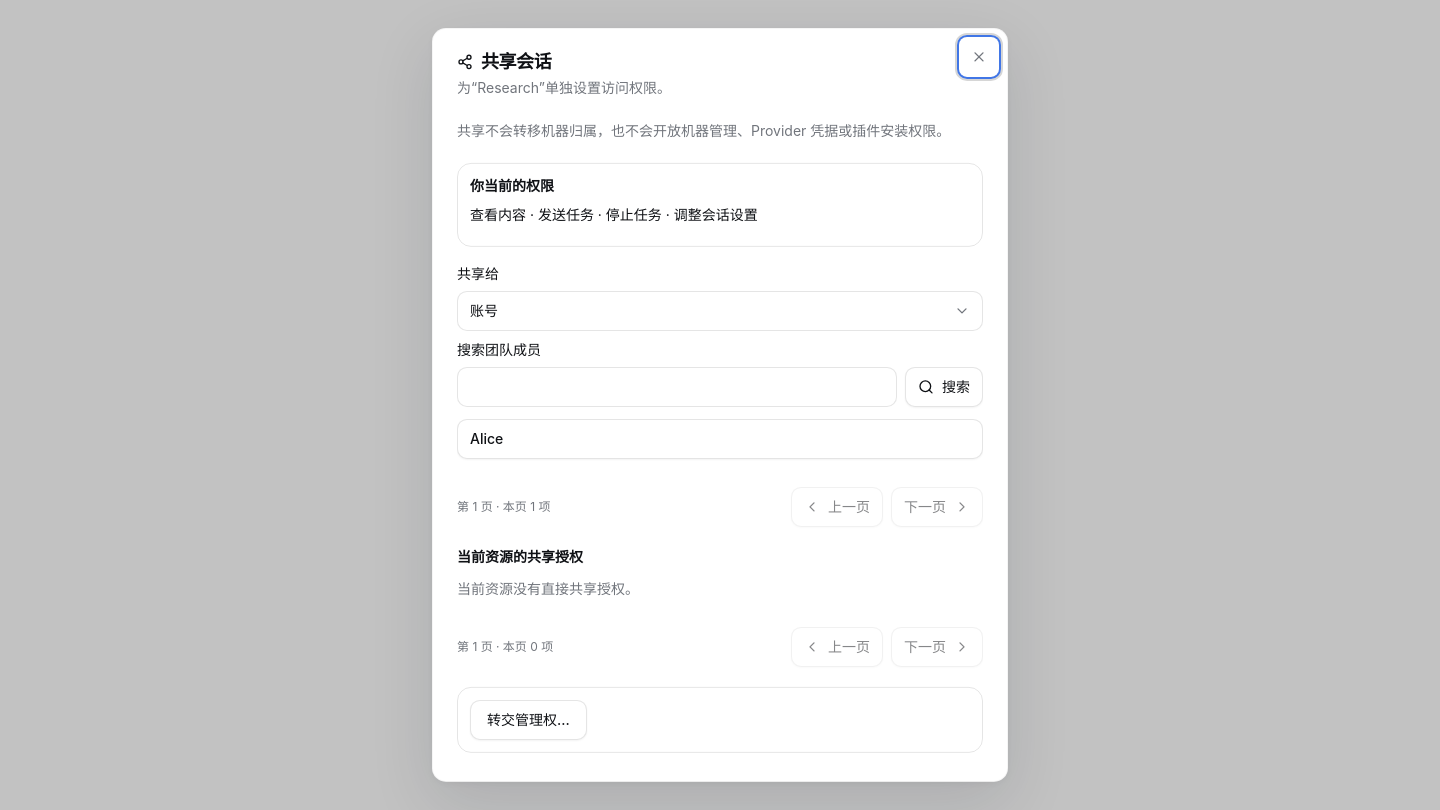
it: Resource sharing › saves explicitly selected user actions and revokes through the typed subject route
The width and height of the screenshot is (1440, 810).
Click the button "Alice" at (487, 439), box [457, 419, 983, 459]
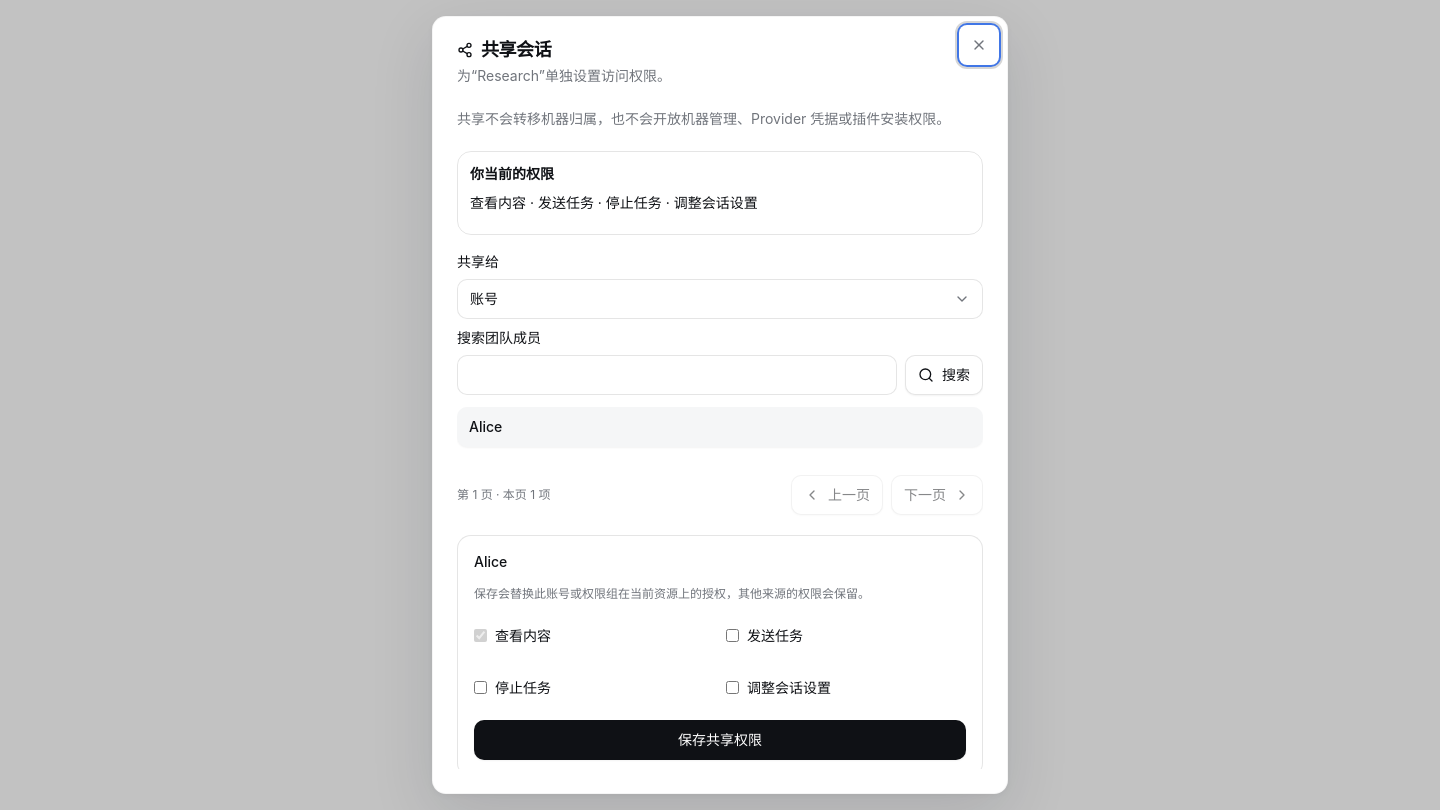
Click the checkbox labelled "发送任务" at (732, 636), box [726, 629, 739, 642]
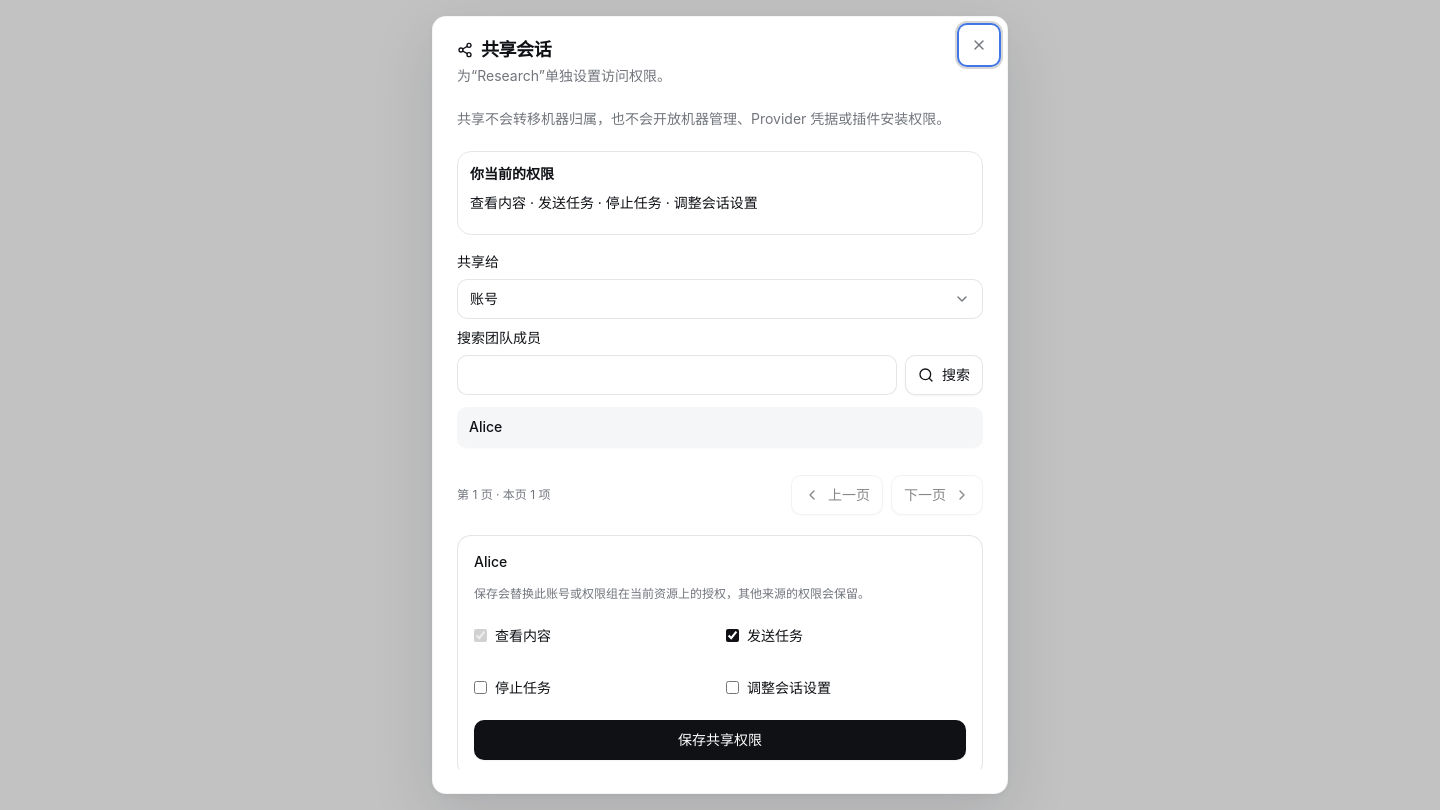
Click the button "保存共享权限" at (720, 740), box [474, 720, 966, 760]
(page scrolled)
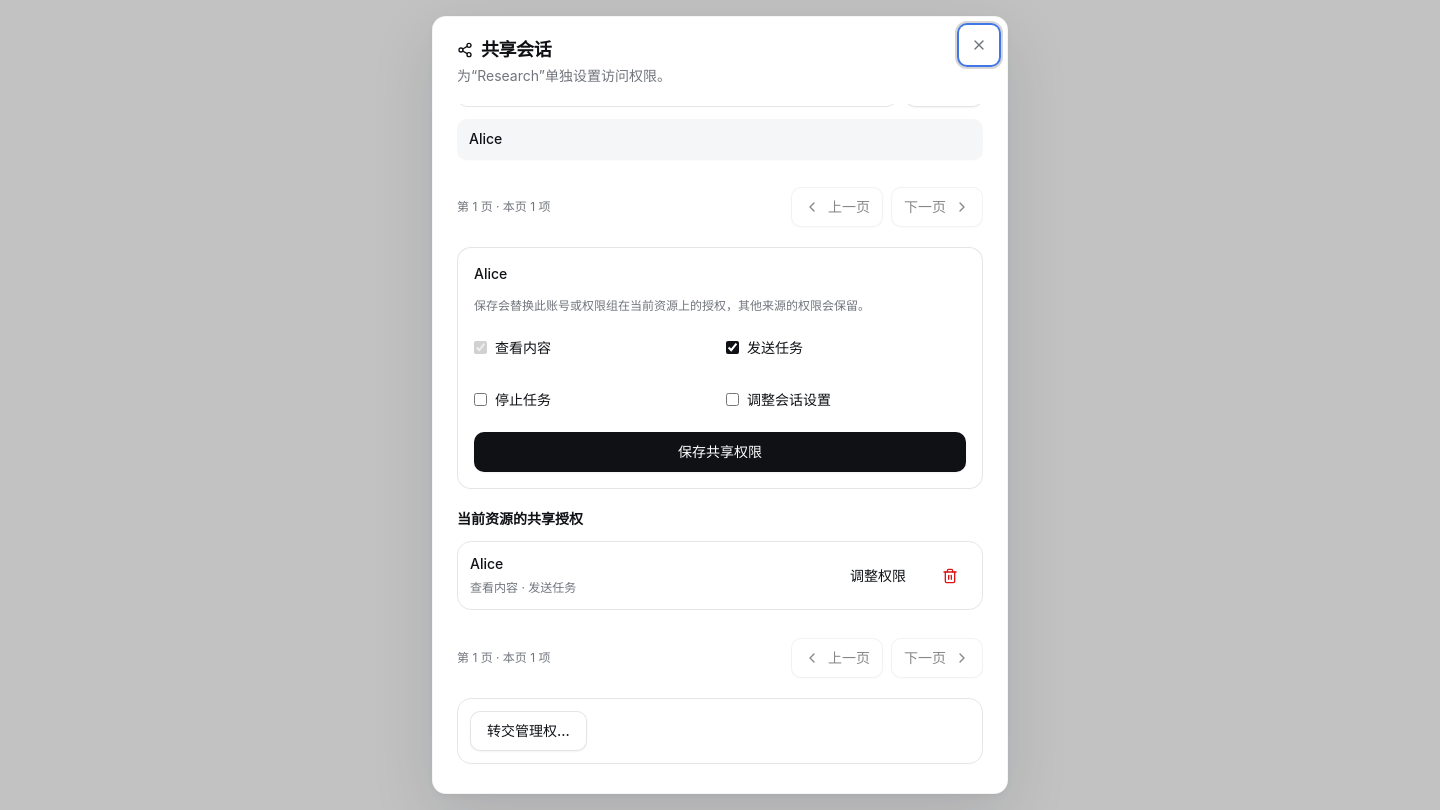
Click the button named "移除“Alice”的共享权限" at (950, 576), box [930, 556, 970, 596]
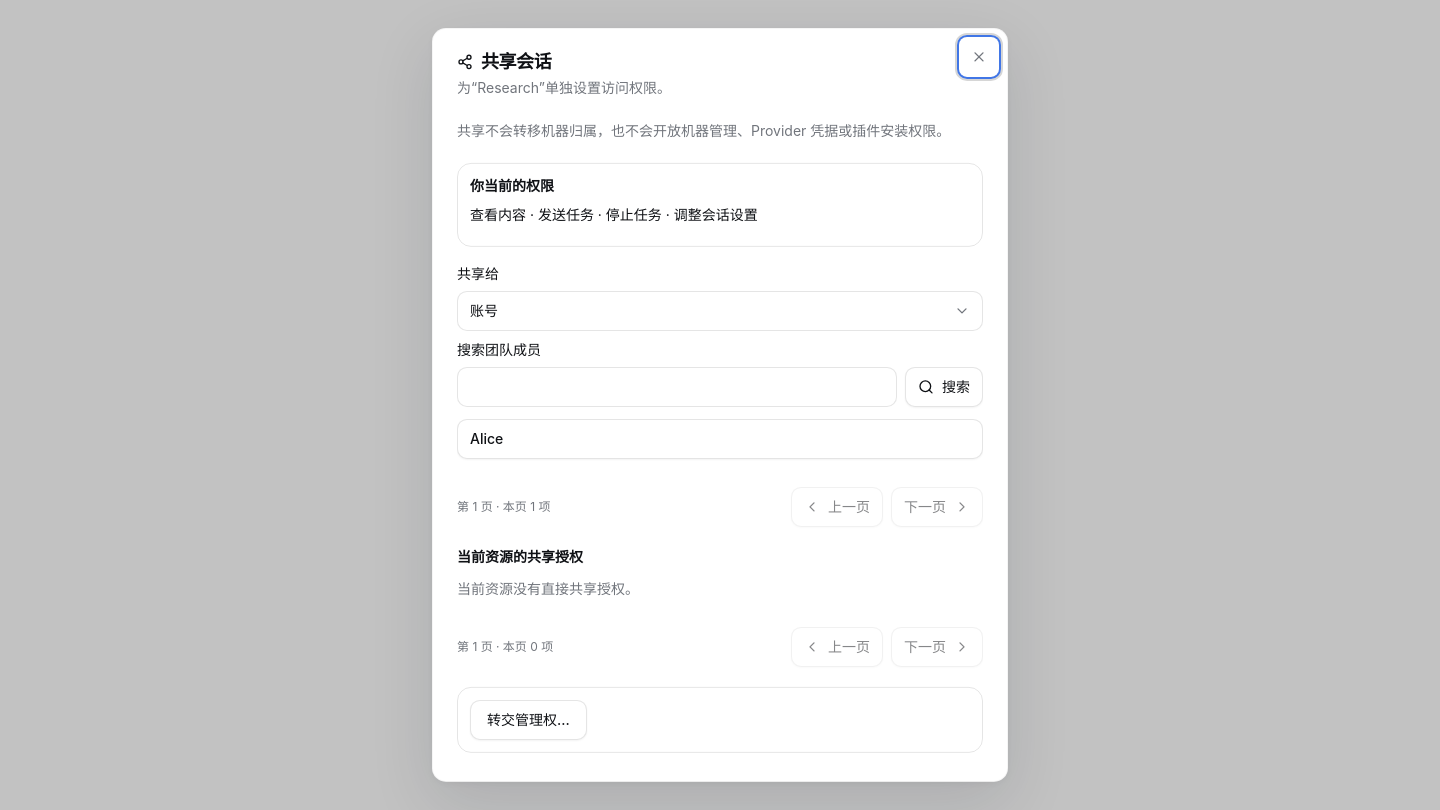
Now the text "当前资源没有直接共享授权" is shown, box [457, 580, 639, 597]
